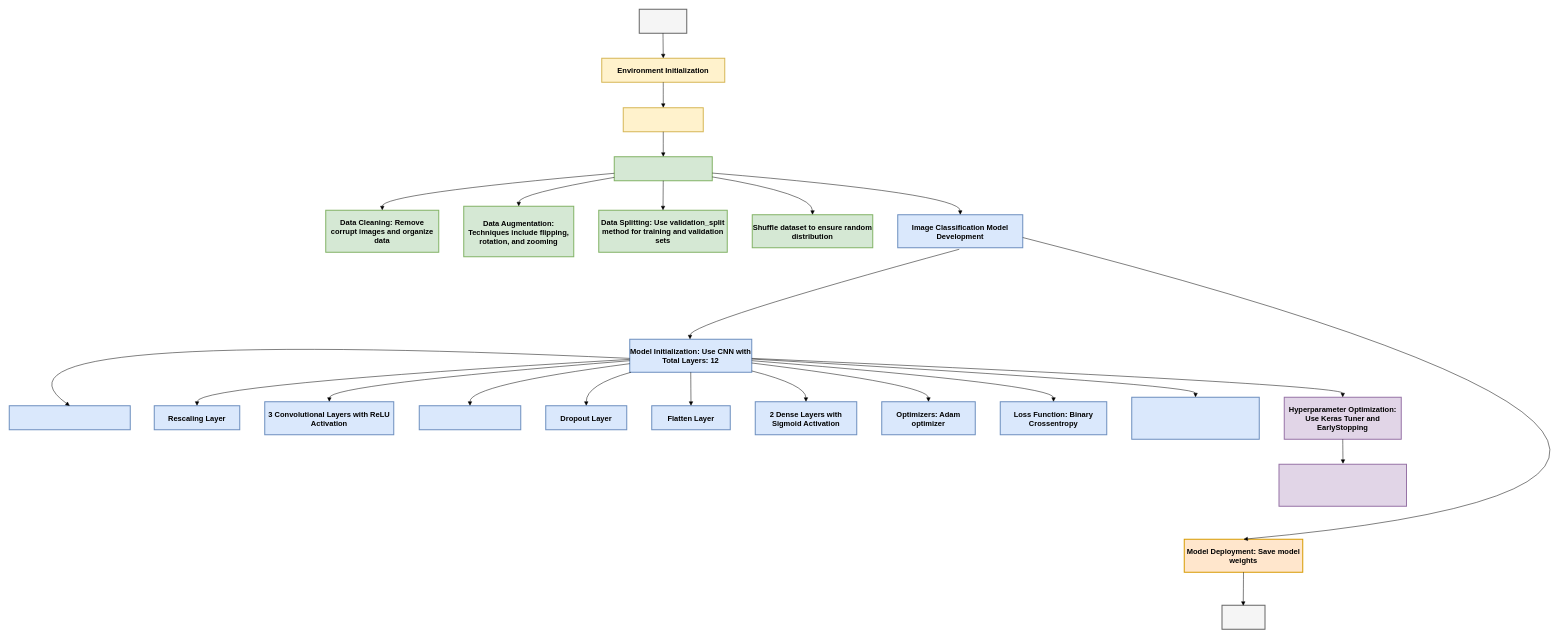
Image size: 1559x638. Some labels were removed from this diagram. The shapes that lost their labels are listed below. From the top down, each one's centre as x and y in pixels, then its label:
At point 662,21: "Start".
At point 663,119: "Load Datasets".
At point 663,168: "Data Preprocessing".
At point 69,417: "Data Augmentation Layer".
At point 469,417: "3 MaxPooling Layers".
At point 1195,418: "Model Evaluation: Evaluate initial model performance on validation set".
At point 1342,485: "Retrain and Evaluate: Train model with best hyperparameters".
At point 1243,617: "End".
